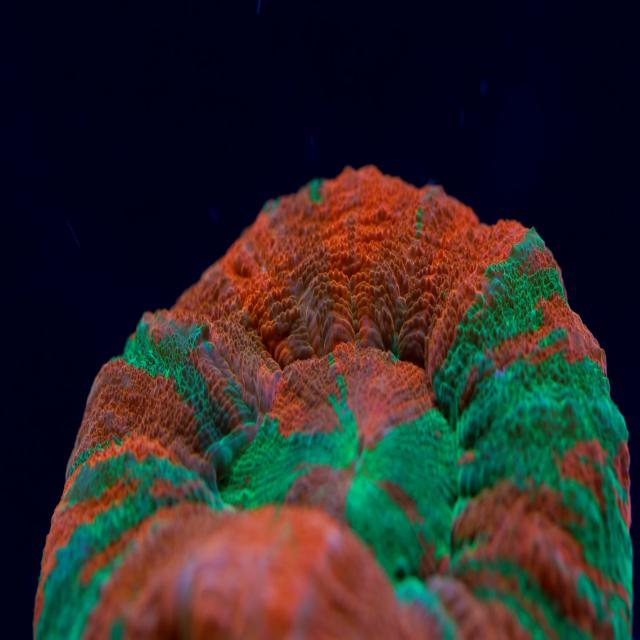Scolymia-Vitiensis -Poisonous-: (35, 159, 632, 640)
